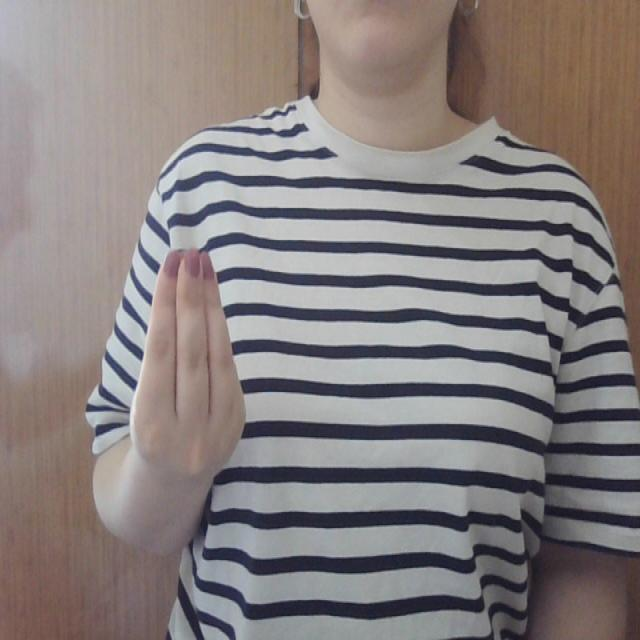iyi: (119, 241, 253, 478)
